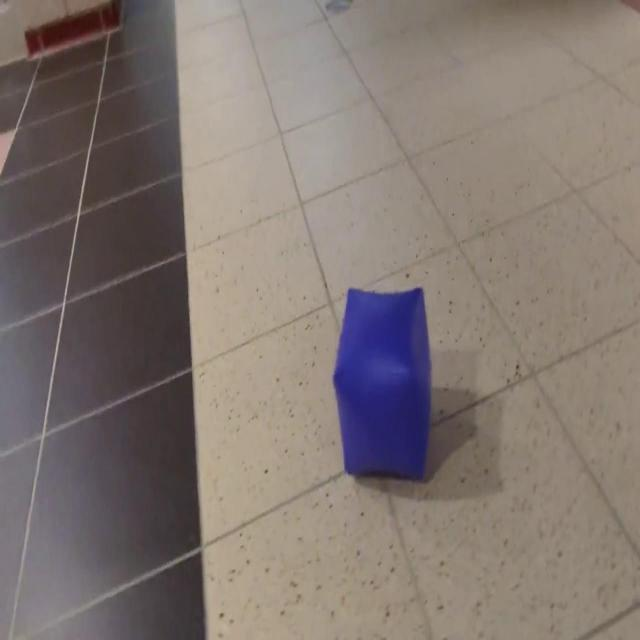frc_cube: (336, 285, 434, 482)
